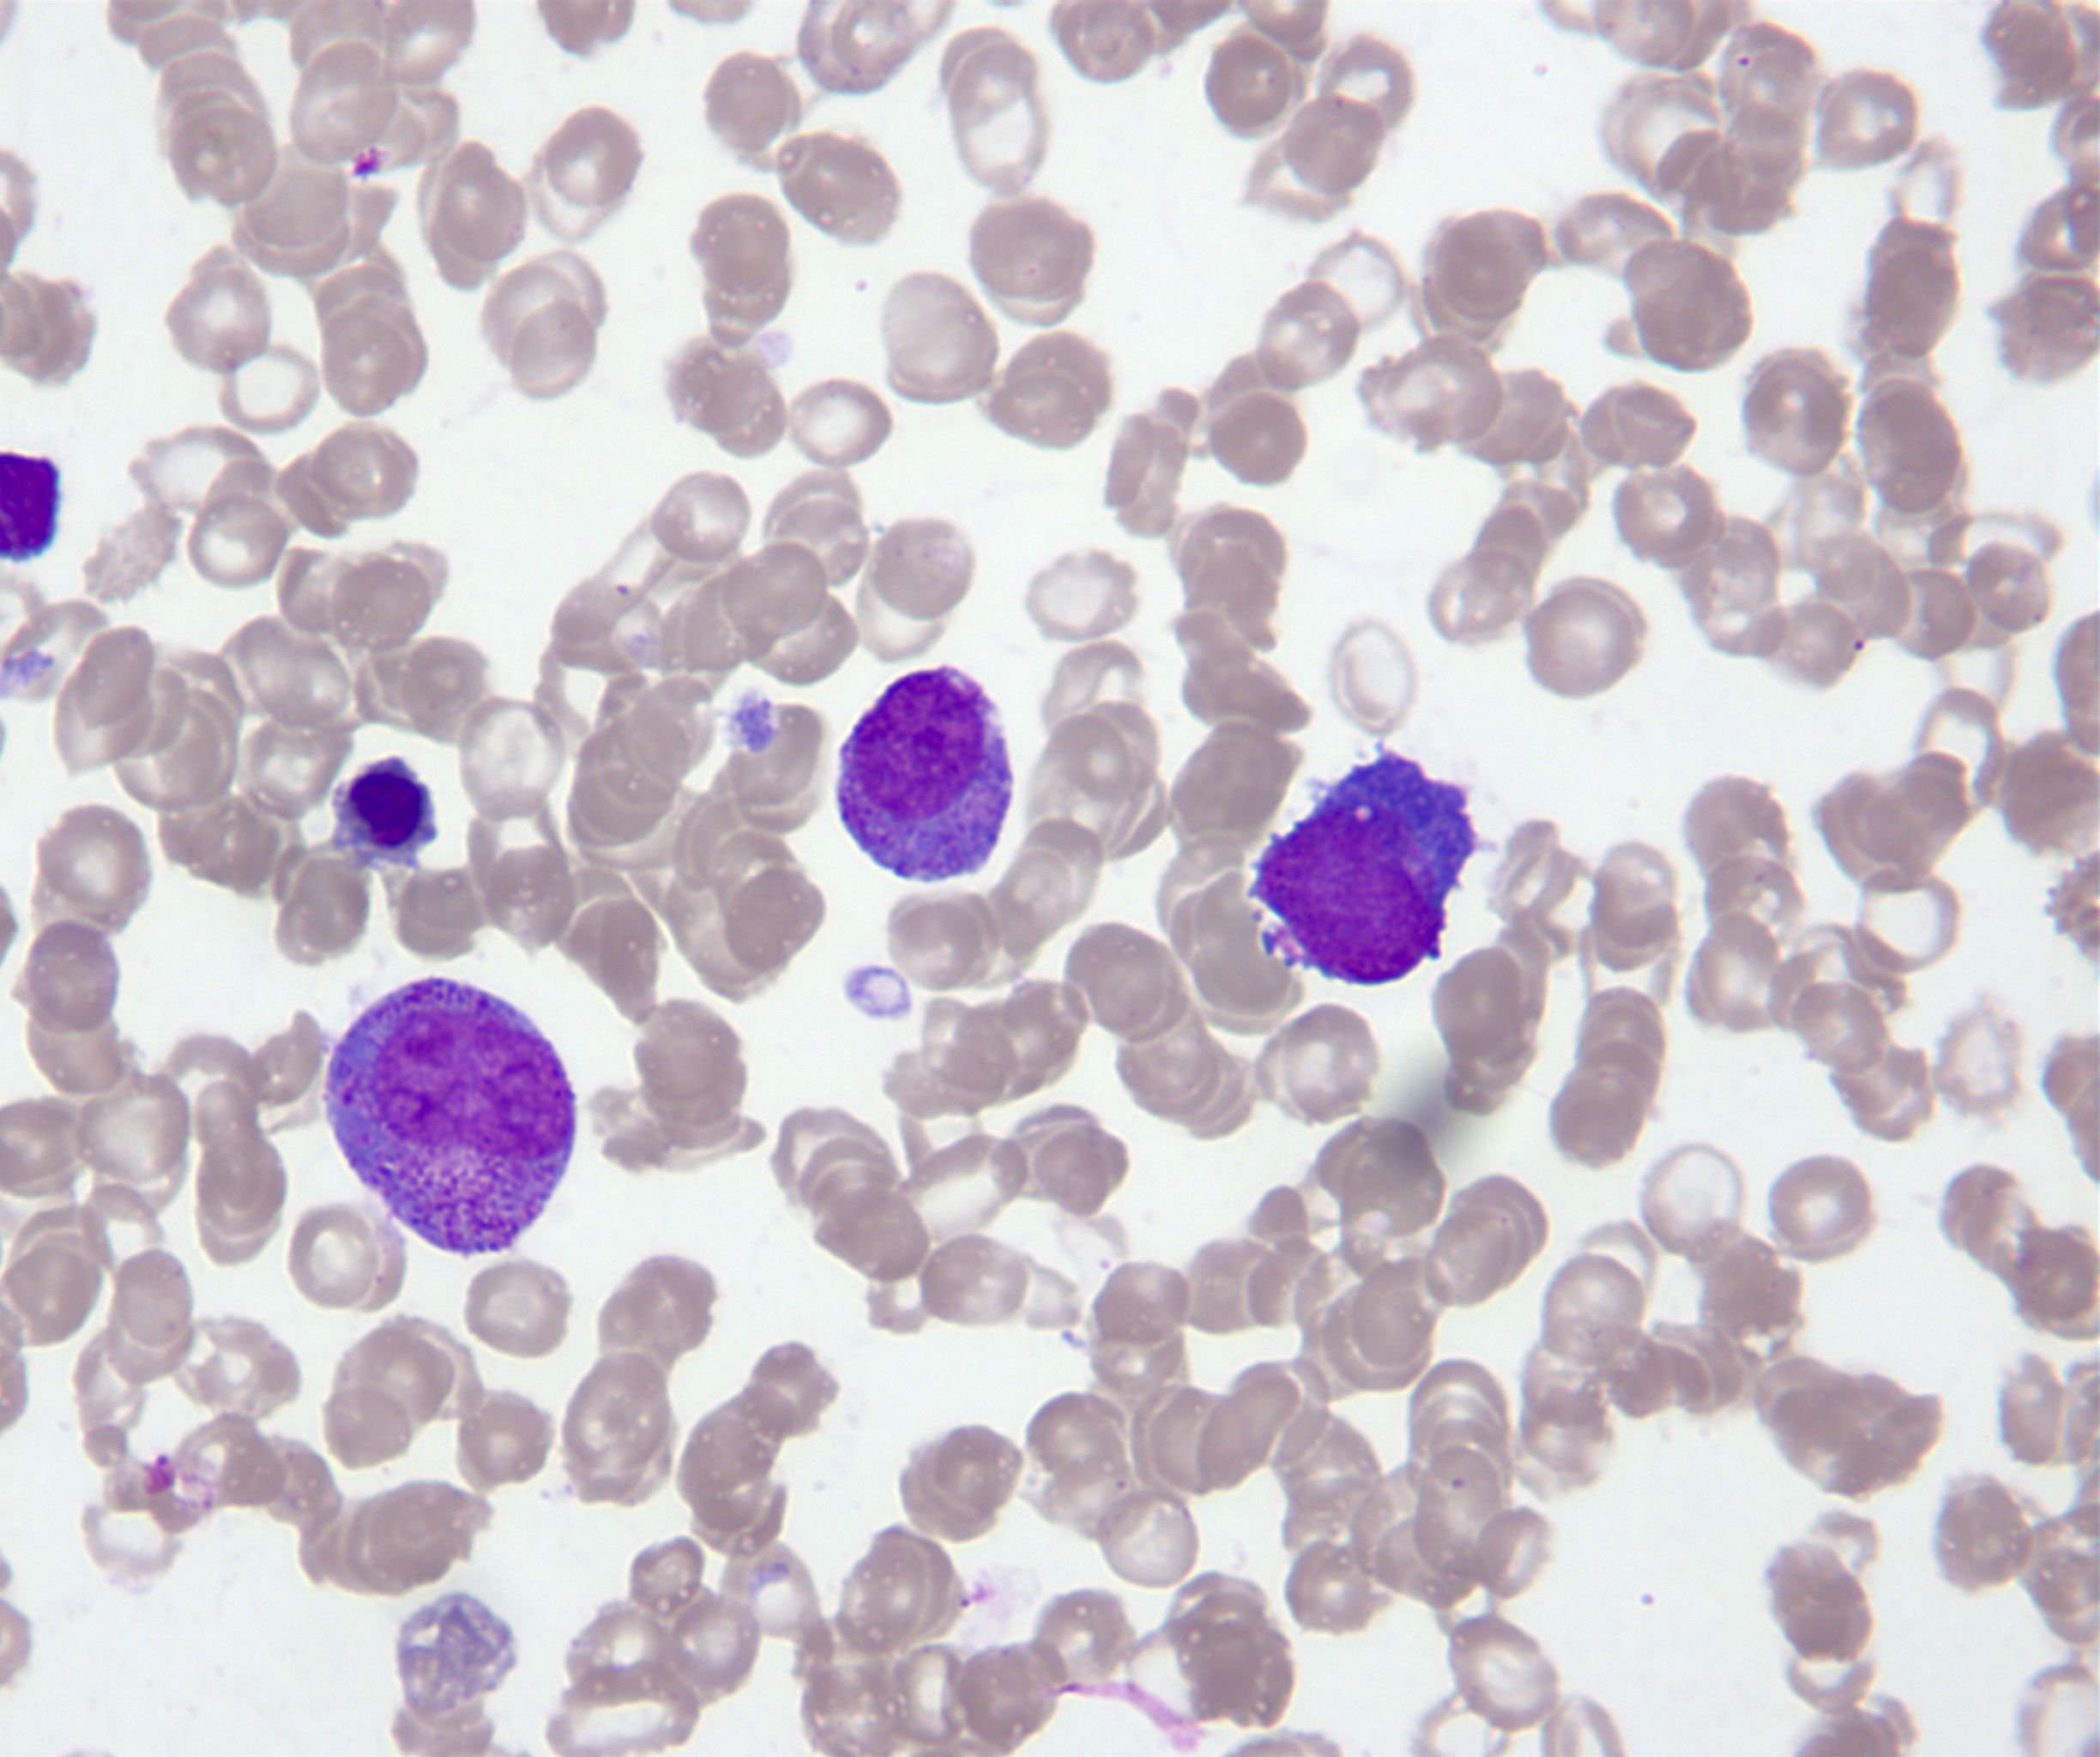2: (326, 979, 574, 1255)
24: (331, 757, 436, 872)
3: (837, 667, 1012, 881)
42: (1247, 750, 1477, 986)
x: (2, 452, 59, 558)
